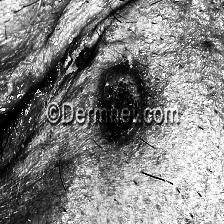Benign Marking or Mole: (102, 68, 142, 142)
